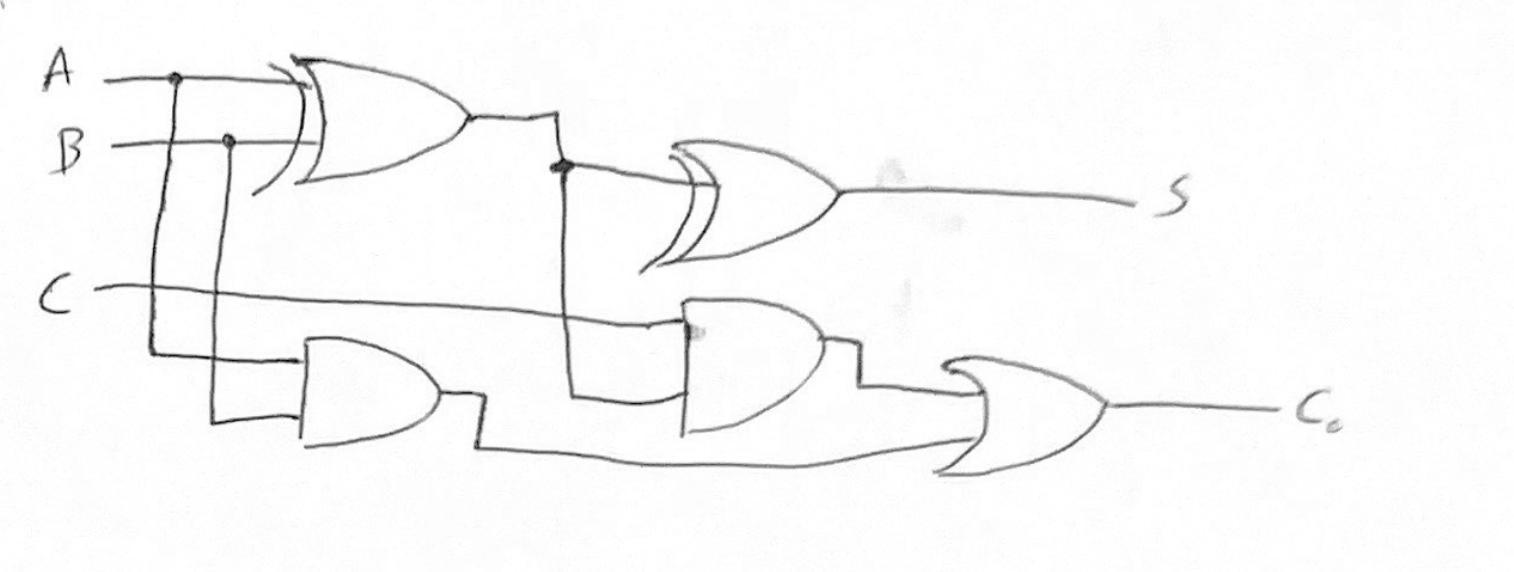AND: (660, 293, 836, 446), (283, 318, 453, 469)
OR: (928, 337, 1125, 498)
XOR: (243, 30, 493, 209), (637, 125, 854, 282)
